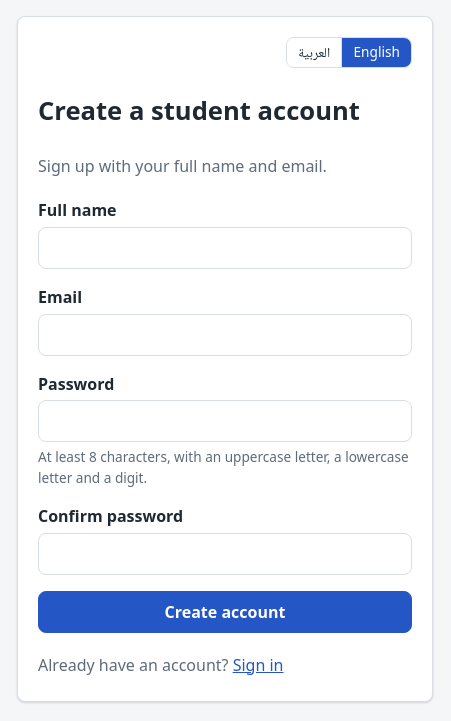
Test case: RegisterPage (English) › creates the account, shows the success panel with a sign-in link, clears the form and does not sign in
In the field labelled "Full name": (225, 248) [38,227,412,269], type "Sara Ahmed"
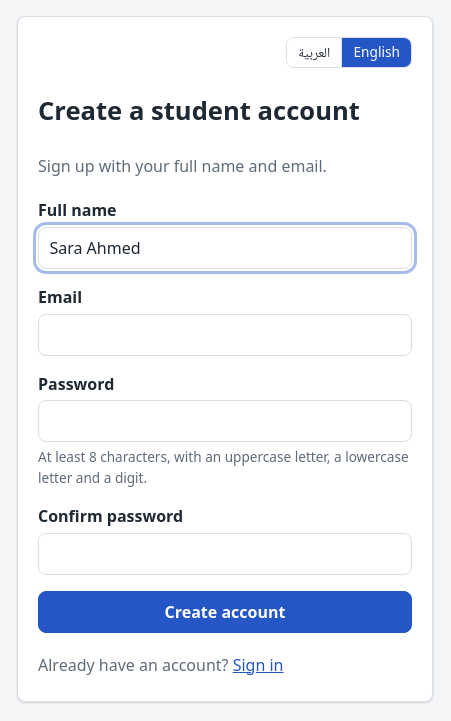
In the field labelled "Email": (225, 335) [38,314,412,356], type "sara@example.edu"
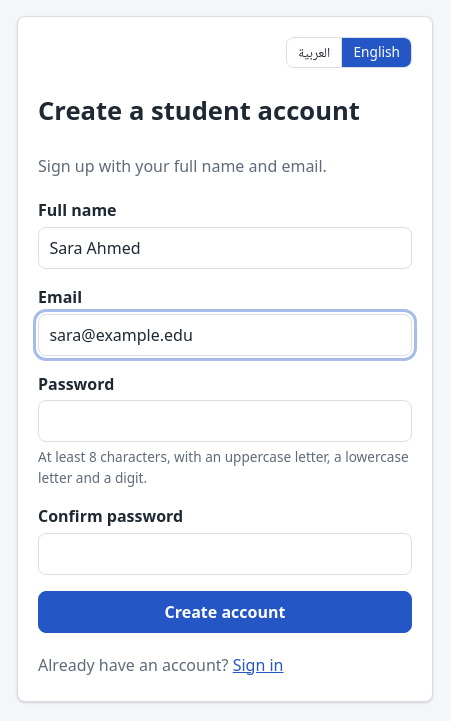
In the password field labelled "Password": (225, 421) [38,400,412,442], type "Example1pass"
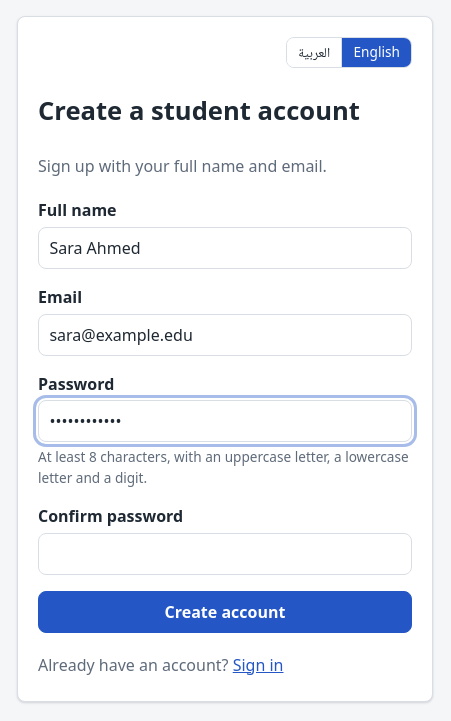
In the password field labelled "Confirm password": (225, 554) [38,533,412,575], type "Example1pass"
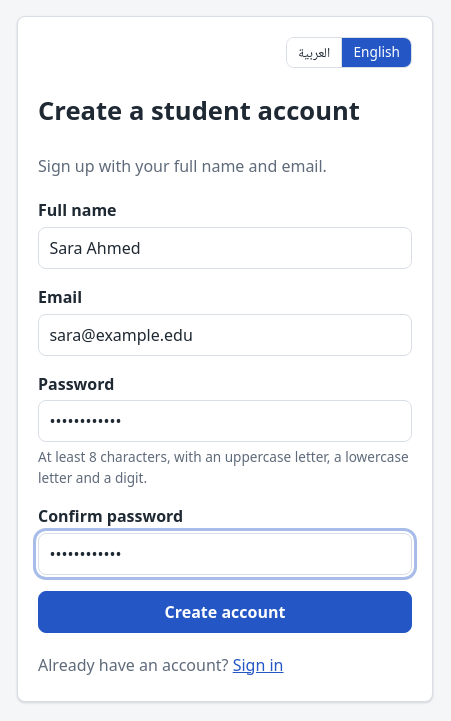
Click the button "Create account": click(225, 612) [38,591,412,633]
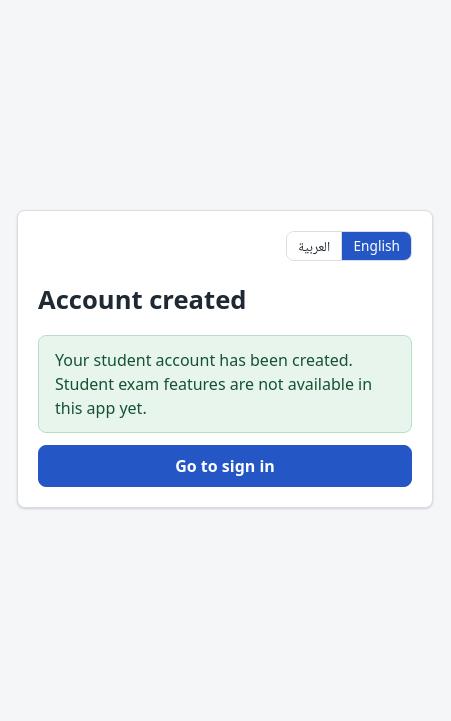
Check: the text "Your student account has been created. Student exam features are not available in this app yet." is shown, box [55,349,372,419]
Check: the label labelled "Password" is gone
